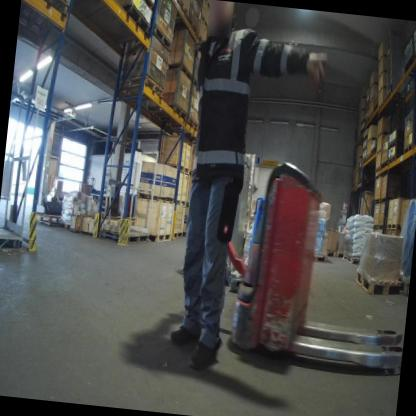pallet: (61, 198, 186, 231), (354, 271, 404, 298), (119, 2, 153, 34), (121, 75, 165, 99), (25, 0, 71, 17), (102, 228, 147, 245), (147, 24, 174, 52), (166, 60, 193, 81), (136, 191, 176, 204), (35, 211, 65, 228), (162, 102, 188, 121), (148, 232, 173, 245), (184, 14, 200, 34), (174, 0, 189, 18), (170, 163, 190, 175), (185, 114, 199, 131), (342, 252, 360, 265), (402, 140, 416, 155), (367, 108, 373, 143), (135, 0, 154, 11), (313, 252, 327, 265), (373, 195, 390, 205), (199, 13, 210, 28), (171, 228, 183, 240), (387, 137, 397, 151), (385, 223, 400, 232), (377, 129, 389, 140), (387, 152, 396, 164), (377, 53, 386, 64), (382, 91, 389, 104), (378, 84, 387, 94), (380, 158, 388, 169), (378, 68, 386, 79), (327, 249, 336, 258), (369, 81, 378, 90), (335, 250, 343, 259), (374, 148, 382, 157), (377, 100, 383, 111), (370, 147, 376, 157), (196, 33, 203, 41), (191, 77, 198, 85), (377, 223, 385, 230), (375, 165, 381, 173), (366, 151, 371, 159), (364, 116, 369, 124), (369, 95, 374, 103), (362, 155, 367, 163), (362, 144, 367, 152), (357, 178, 361, 184), (373, 224, 377, 229)
pallet_truck: (217, 156, 416, 379)
